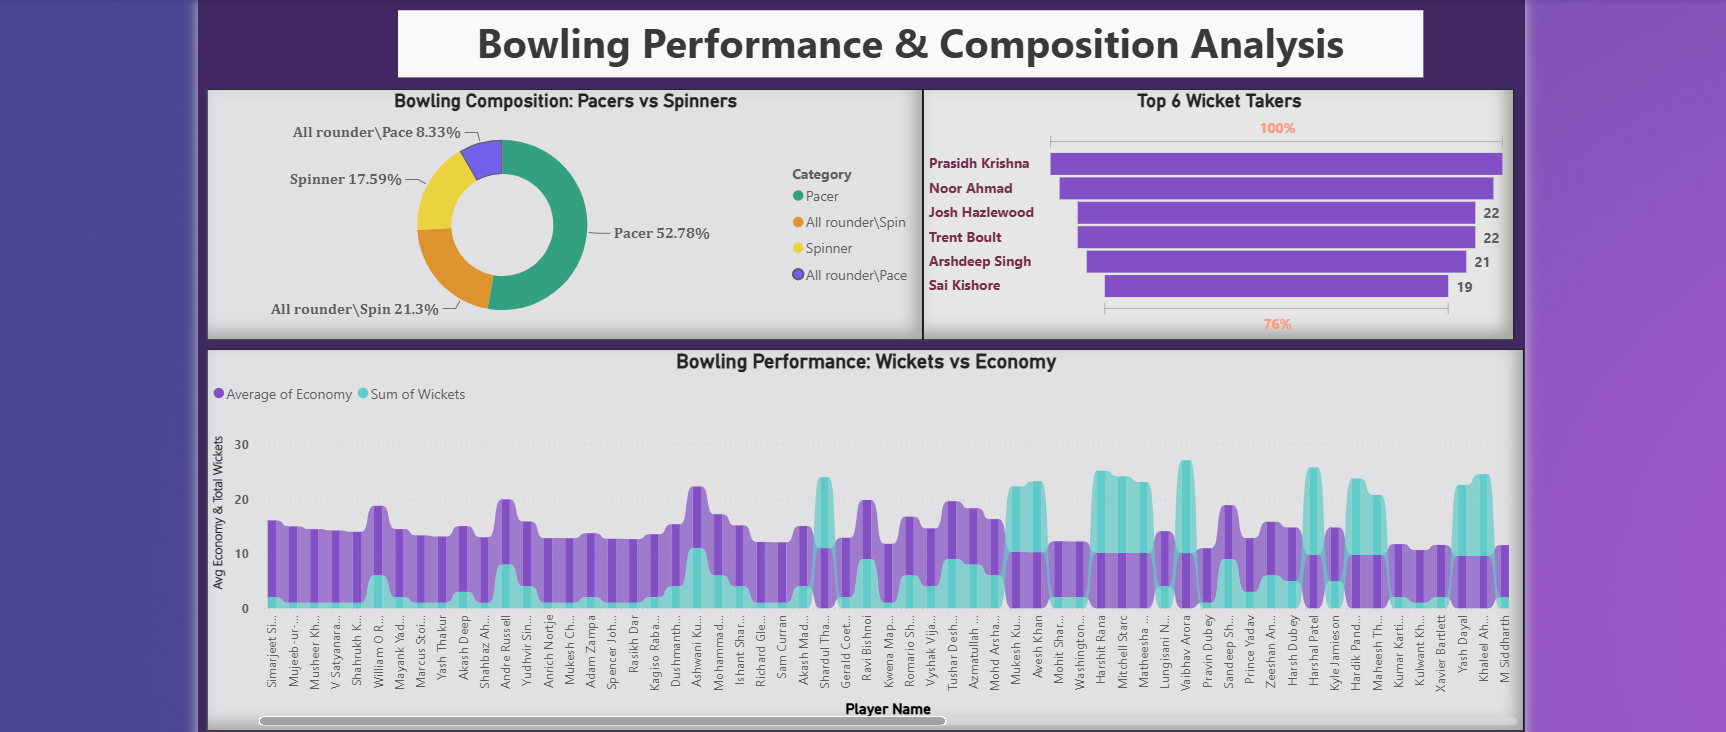

This screenshot's page, from the dashboard's own definition file:
{"tool":"powerbi","page":{"name":"Page 2","canvas":[1280,720],"ordinal":1},"visuals":[{"type":"donutChart","title":"Bowling Composition: Pacers vs Spinners","fields":{"Category":["Sheet1 (2).Category"],"Y":["CountNonNull(Sheet1 (2).Player Name)"]},"box":[88.7,56.2,459.2,243.2],"z":0},{"type":"funnel","title":"Top 6 Wicket Takers","fields":{"Category":["Sheet1 (2).Player Name"],"Y":["Sum(Sheet1 (2).Wickets)"]},"box":[556.4,56.4,484.4,243.2],"z":1000},{"type":"ribbonChart","title":"Bowling Performance: Wickets vs Economy","fields":{"Category":["Sheet1 (2).Player Name"],"Y":["Avg(Sheet1 (2).Economy)","Sum(Sheet1 (2).Wickets)"]},"box":[88.5,309.3,952.2,378.4],"z":2000}]}

Visuals, with their boxes on the page's 1280x720 design canvas (x1, y1, x2, y2). These are canvas units, not pixel positions in the 1726x732 screenshot, which may show the page scaled, cropped or inside an application window:
"Bowling Composition: Pacers vs Spinners" donutChart: region(89, 56, 548, 299)
"Top 6 Wicket Takers" funnel: region(556, 56, 1041, 300)
"Bowling Performance: Wickets vs Economy" ribbonChart: region(88, 309, 1041, 688)
